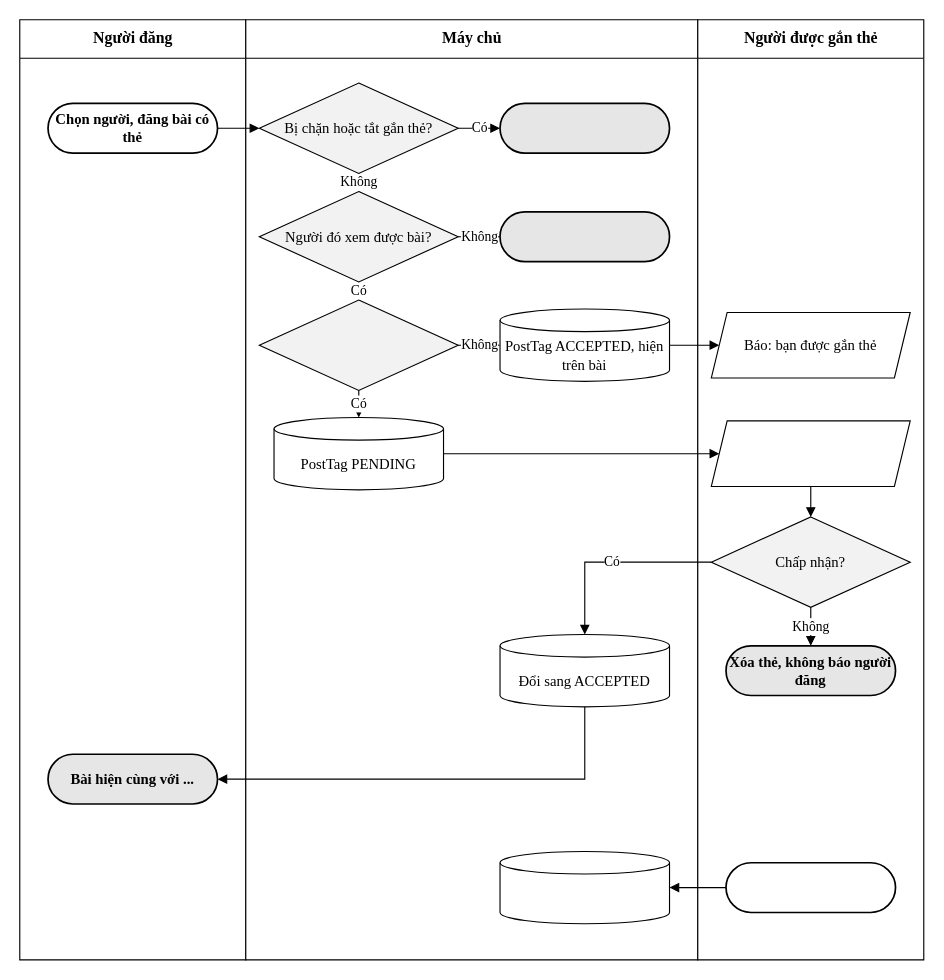
The diagram is 944 pixels wide and 980 high, and some of its shapes have lost their labels. Here are the shapes that lost their labels. From the top down, the centre of each, then its label:
the point at 584,127: Bỏ người đó, không báo
the point at 584,236: Bỏ thẻ, nhắc người đăng
the point at 358,344: Cần duyệt thẻ?
the point at 810,453: Báo: duyệt thẻ của X?
the point at 584,887: Xóa PostTag, bài không còn tên
the point at 810,887: Sau này muốn gỡ thẻ
